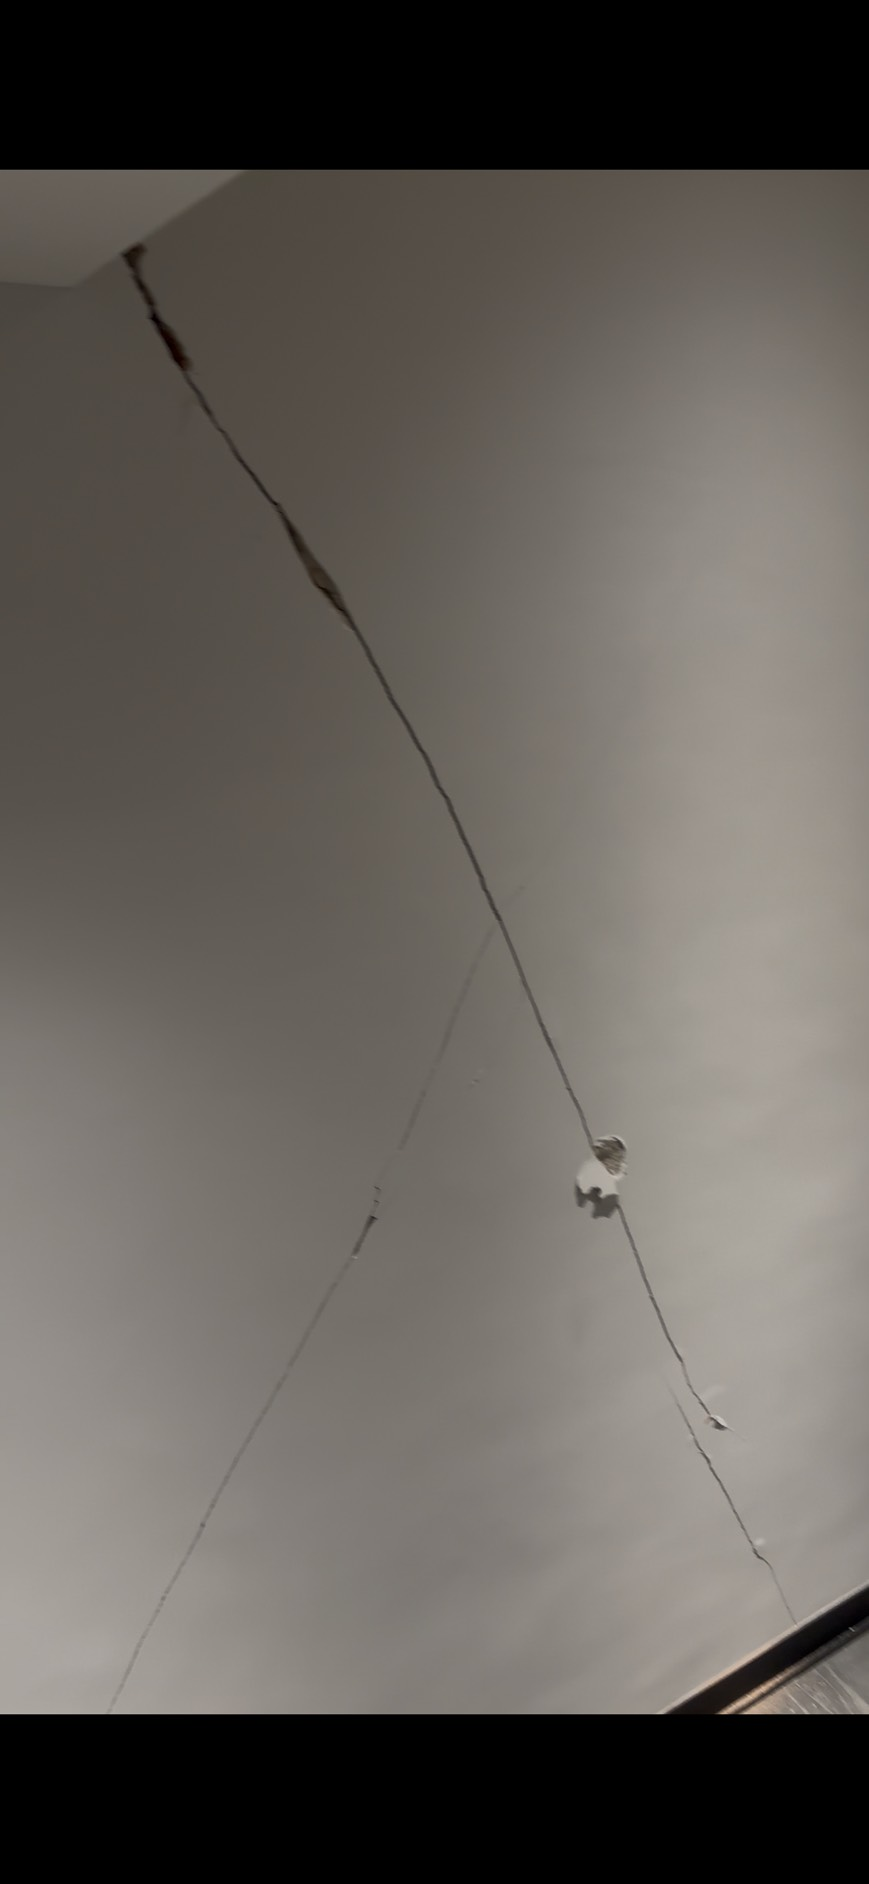Medium: (123, 258, 656, 1044)
